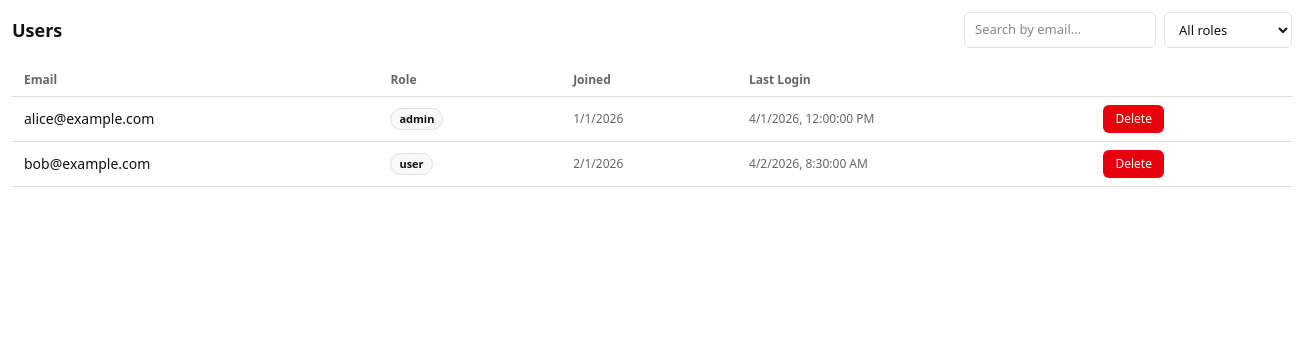
it: UsersPanel › opens detail panel when row is clicked
This screenshot has width=1304, height=359.
Click the text "alice@example.com": {"x": 89, "y": 118} [12, 96, 378, 142]
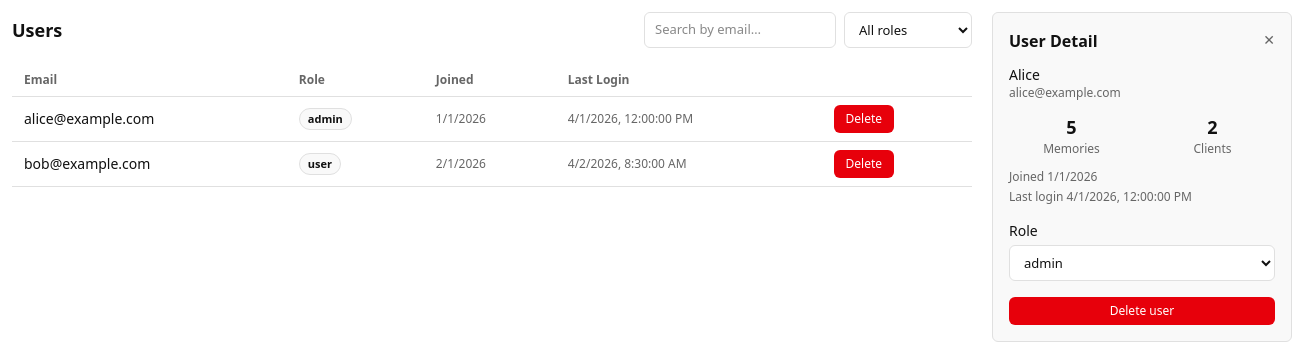
expect the element with test id "user-detail" is shown: met, box [992, 12, 1292, 342]
expect the text "Alice" is shown: met, box [1009, 65, 1040, 84]
